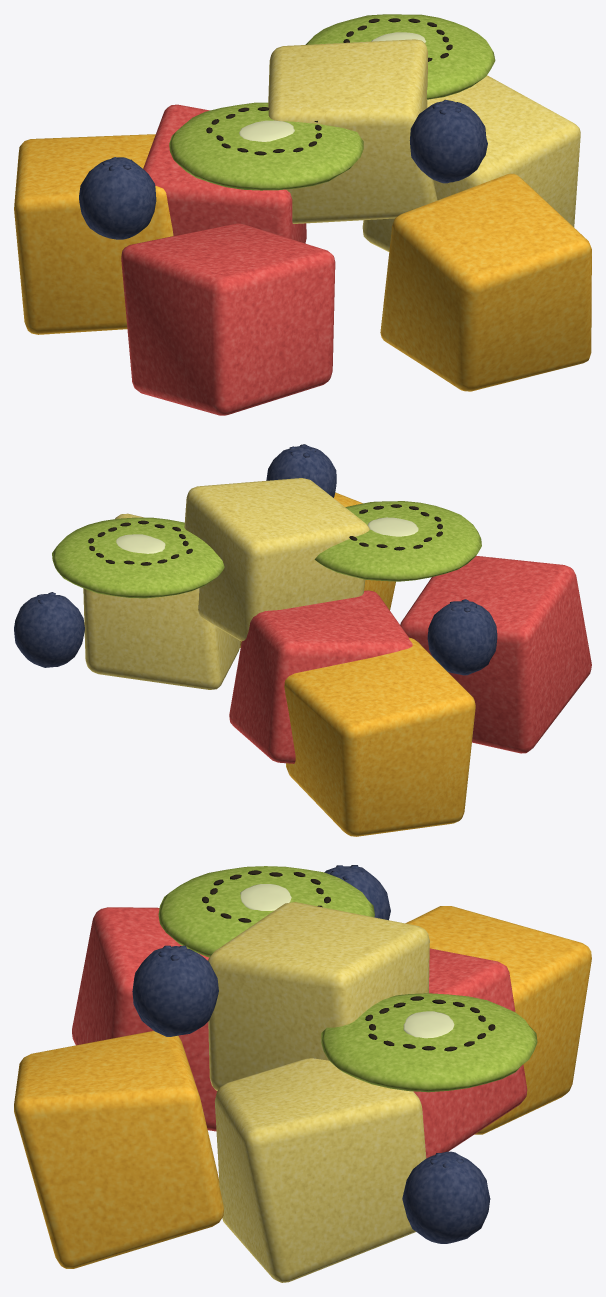
Rendered from fruit_salad.glb.
3 renders of one model, top to bottom at view 1: azimuth 30°, elevation 25°; view 2: azimuth 150°, elevation 25°; view 3: azimuth 270°, elevation 25°, orthographic. The views are drawn at different scales.
Visible parts, largest first — view 1: fruit_salad; view 2: fruit_salad; view 3: fruit_salad.
Part boxes in pixels (<box>): fruit_salad: <box>14,14,591,415</box>; fruit_salad: <box>14,444,591,836</box>; fruit_salad: <box>14,865,591,1282</box>.
Size of the model in its own units: 0.0709 by 0.0339 by 0.0638.
1 material, 1 textured.
